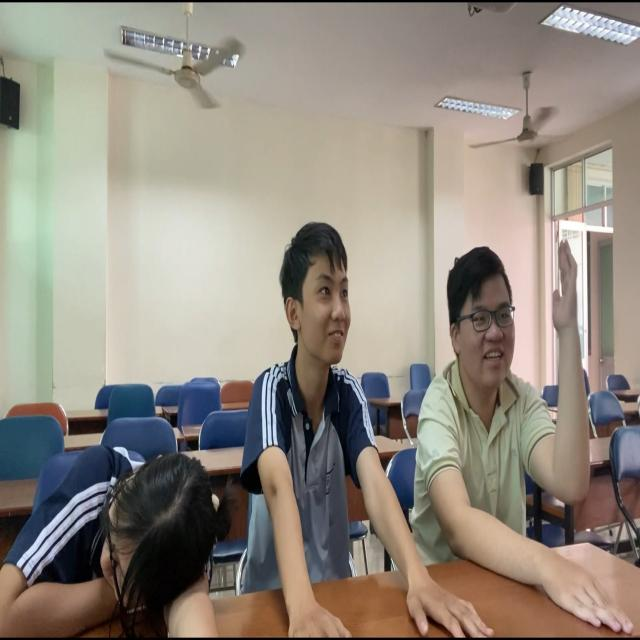sleep: (1, 424, 247, 640)
